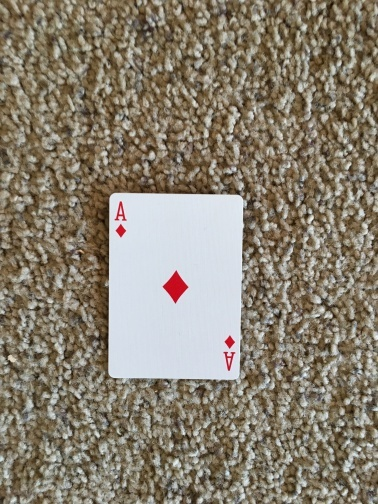ace: (109, 196, 239, 377)
